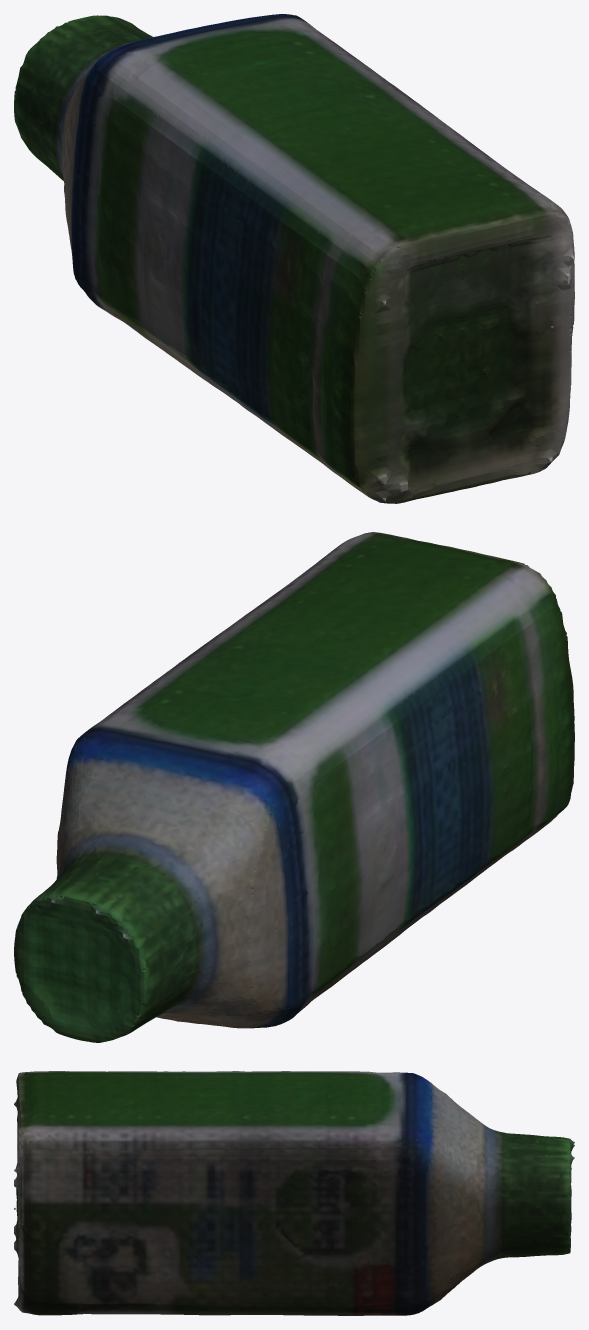
The model's file is mesh_bottle-dettol_washing_machine.obj.
3 views of the same model, one above another, from view 1: azimuth 30°, elevation 25°; view 2: azimuth 150°, elevation 25°; view 3: azimuth 270°, elevation 25° (orthographic). The views are drawn at different scales.
Size of the model in its own units: 0.693 by 0.7955 by 2.
